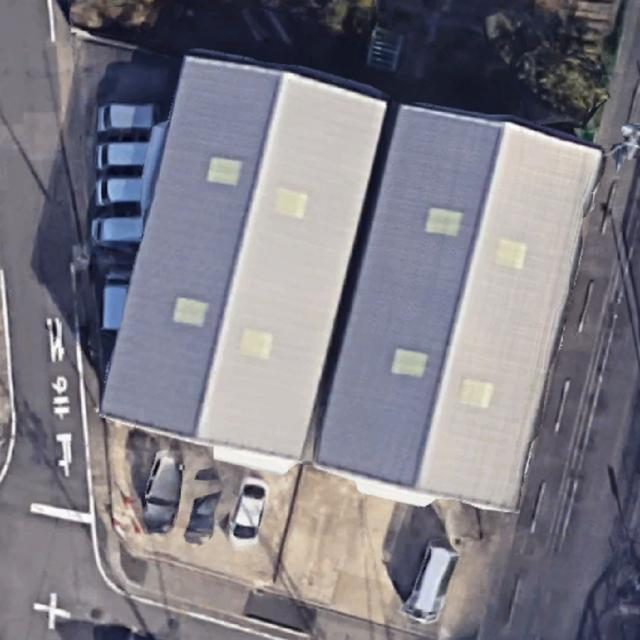Batiment: (314, 105, 602, 509), (101, 56, 388, 459)
